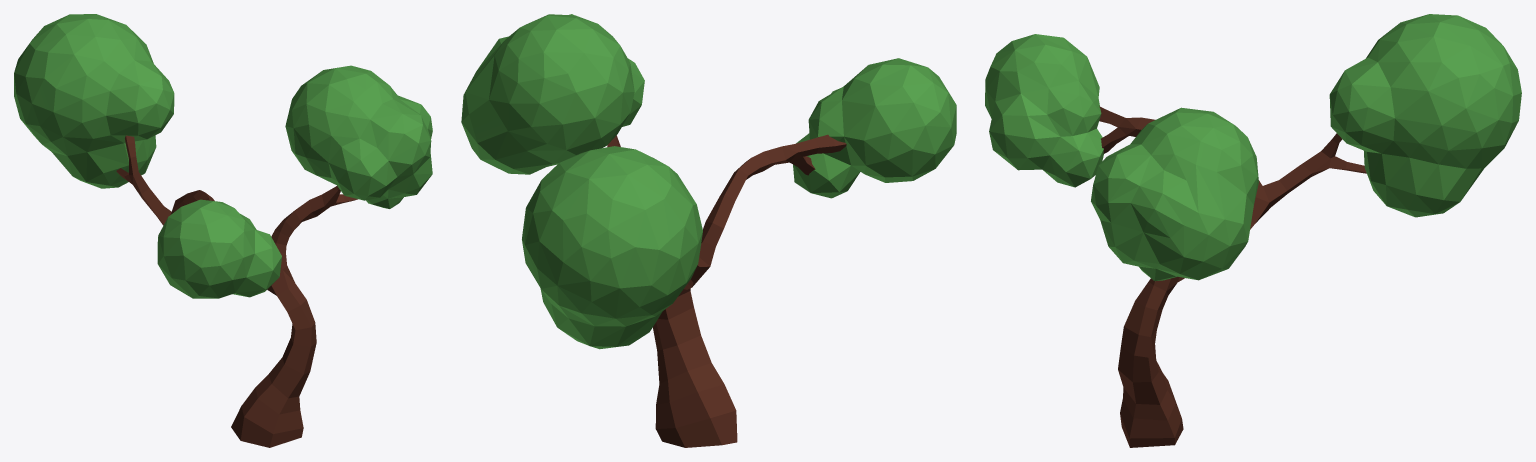
Rendered from tree03.fbx.
3 renders of one model, left to right at view 1: azimuth 30°, elevation 25°; view 2: azimuth 150°, elevation 25°; view 3: azimuth 270°, elevation 25°, orthographic. The views are drawn at different scales.
Parts seen in each view (by area): view 1: polySurface9, polySurface10, polySurface8, polySurface11; view 2: polySurface9, polySurface10, polySurface11, polySurface8; view 3: polySurface9, polySurface10, polySurface11, polySurface8.
Boxes of the visible parts, <box> form: polySurface9: <box>14,14,174,188</box>; polySurface10: <box>285,65,432,208</box>; polySurface8: <box>116,135,357,447</box>; polySurface11: <box>157,199,281,298</box>; polySurface9: <box>522,146,702,349</box>; polySurface10: <box>461,14,644,174</box>; polySurface11: <box>793,58,956,198</box>; polySurface8: <box>607,134,846,447</box>; polySurface9: <box>1329,14,1521,217</box>; polySurface10: <box>1091,107,1258,281</box>; polySurface11: <box>985,34,1103,187</box>; polySurface8: <box>1099,106,1366,447</box>.
Size of the model in its own units: 325 by 325 by 413.
